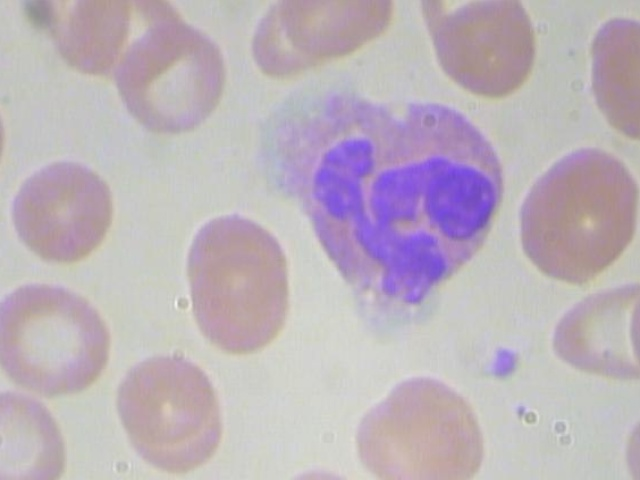Platelets: (476, 339, 529, 393)
RBC: (109, 18, 239, 142), (179, 211, 305, 322), (0, 274, 113, 397), (185, 244, 310, 354), (0, 150, 125, 260), (517, 159, 620, 282), (541, 145, 640, 268), (371, 372, 481, 480), (106, 347, 216, 455), (430, 0, 540, 97), (292, 0, 402, 49)
WBC: (242, 86, 533, 334)
